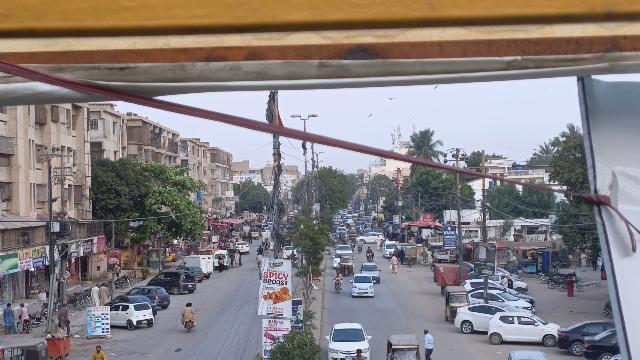Bike: (16, 315, 31, 335), (182, 318, 195, 336), (333, 278, 344, 293)
Car: (486, 310, 560, 345), (323, 319, 373, 360), (453, 302, 512, 335), (109, 302, 156, 331), (146, 270, 198, 295), (129, 283, 171, 311), (350, 273, 375, 298)
Person: (56, 300, 73, 333), (420, 325, 434, 360), (3, 303, 17, 336), (89, 343, 106, 360), (99, 281, 110, 307), (388, 253, 400, 276), (17, 301, 29, 322), (90, 282, 100, 307), (182, 301, 195, 318), (334, 270, 343, 281)
Rickshaw: (440, 285, 472, 324), (383, 333, 423, 360), (338, 253, 356, 276)
Truck: (179, 253, 215, 281)
